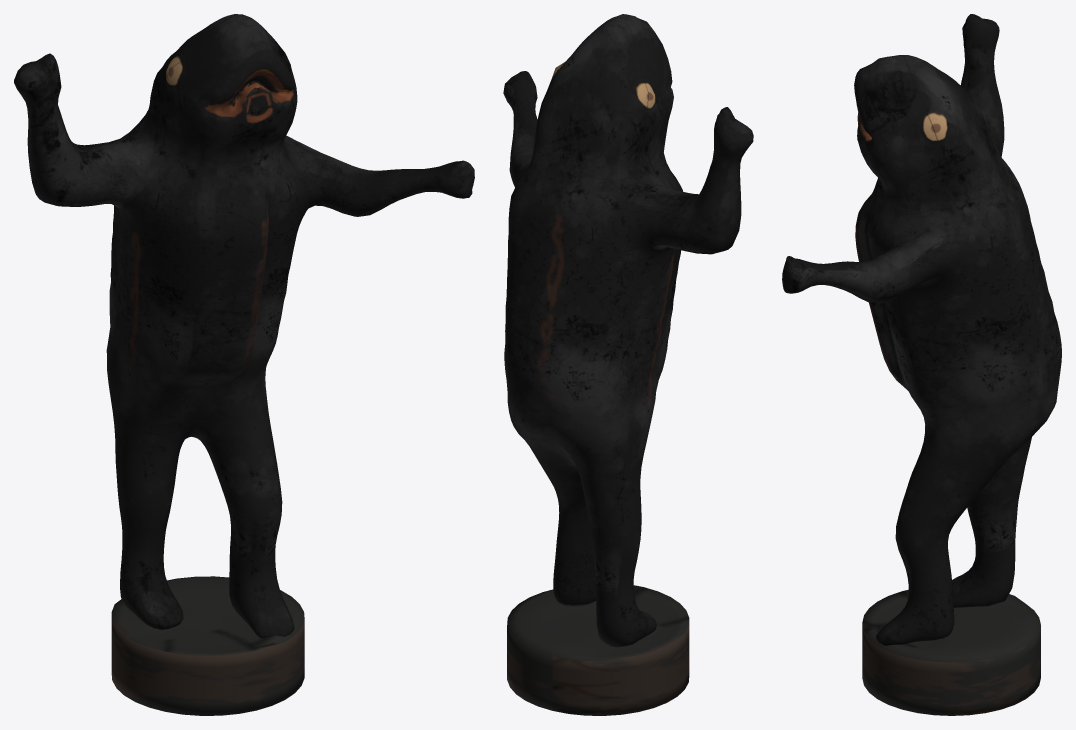
The model's file is Hommee_requin.fbx.
3 views of the same model, side by side, from view 1: azimuth 30°, elevation 25°; view 2: azimuth 150°, elevation 25°; view 3: azimuth 270°, elevation 25° (orthographic). The views are drawn at different scales.
Parts seen in each view (by area): view 1: Homme_poisson_low, Cylinder.002; view 2: Homme_poisson_low, Cylinder.002; view 3: Homme_poisson_low, Cylinder.002.
Part boxes in pixels (box(x1,y1,x2,y2)): Homme_poisson_low: box(14, 14, 474, 638); Cylinder.002: box(111, 576, 304, 715); Homme_poisson_low: box(503, 14, 753, 647); Cylinder.002: box(507, 585, 689, 715); Homme_poisson_low: box(782, 14, 1061, 645); Cylinder.002: box(862, 589, 1040, 715).
Size of the model in its own units: 225 by 403 by 164.
2 materials, 2 textured.
